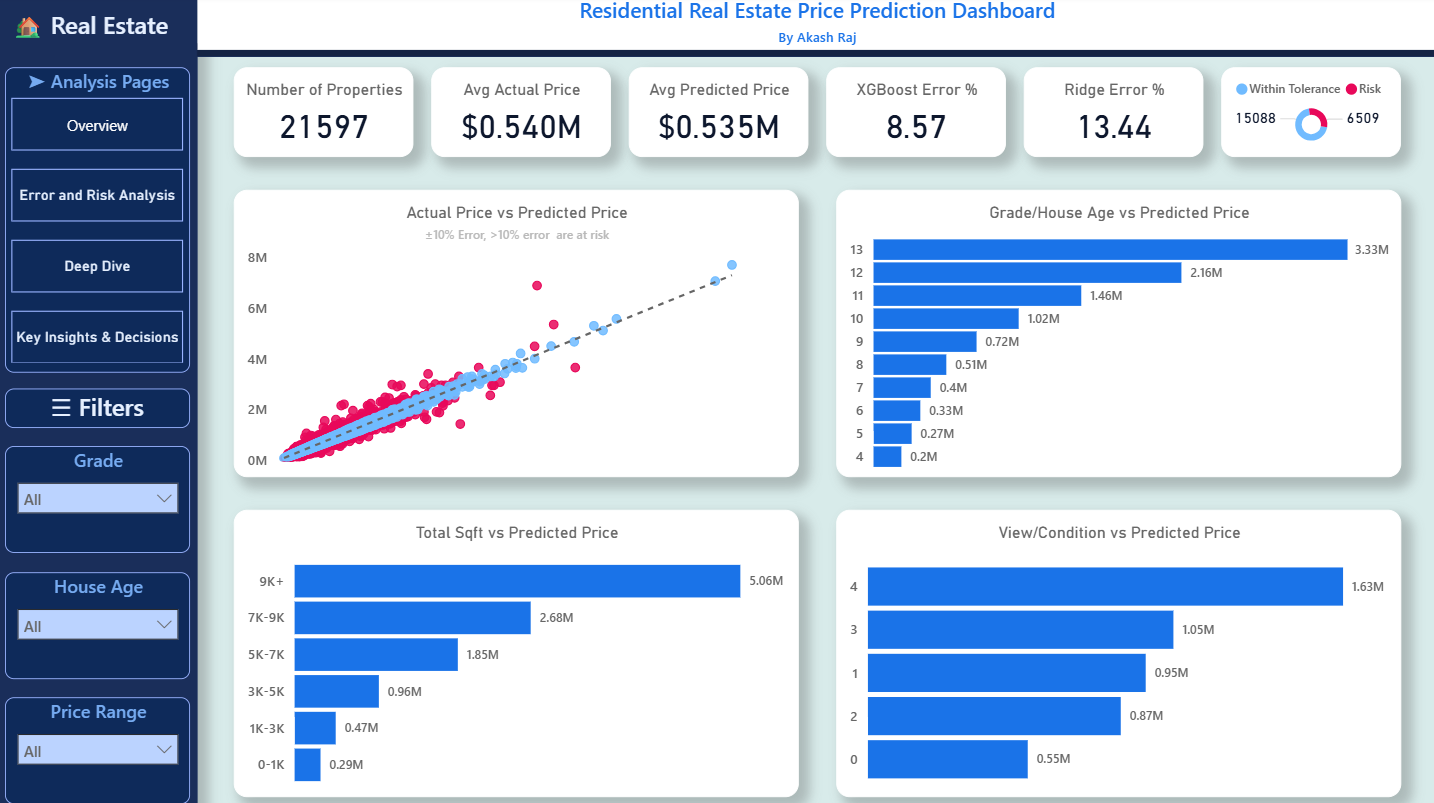

The page's visual inventory and layout, read from the dashboard file:
{"tool":"tableau","page":{"name":"Model Reliability & Pricing Confidence","canvas":[1000,1000],"units":"permille","ordinal":1},"visuals":[{"type":"worksheet","title":"Ex-Back","mark":"Automatic","box":[0,0,1000,1000]},{"type":"text","box":[47.4,27.8,902.3,47.2]},{"type":"dashboard-object","box":[54.1,33.3,109.8,38.9]},{"type":"filter","title":"Actual vs Predicted — XGBoost","param":"[federated.0pb6tqq0hun84y1cwjt1z028dbxy].[none:actual_price:qk]","box":[674.4,175,91,98.6]},{"type":"filter","title":"Actual vs Predicted — XGBoost","param":"[federated.0pb6tqq0hun84y1cwjt1z028dbxy].[none:grade:qk]","box":[766.9,175,91,98.6]},{"type":"filter","title":"Ex-Back","param":"[federated.0pb6tqq0hun84y1cwjt1z028dbxy].[none:house_age:qk]","box":[859.4,175,91,98.6]},{"type":"worksheet","title":"KPI Tiles","mark":"Automatic","box":[49.6,176.4,581.2,98.6]},{"type":"blank","box":[166.9,176.4,2.3,97.2]},{"type":"blank","box":[281.9,176.4,2.3,97.2]},{"type":"blank","box":[397,176.4,2.3,97.2]},{"type":"blank","box":[512,176.4,2.3,97.2]},{"type":"worksheet","title":"Actual vs Predicted — XGBoost","mark":"Automatic","rows":["actual_price"],"cols":["xgb_pred_price"],"box":[43.6,419.4,281.2,481.9]},{"type":"worksheet","title":"Actual vs Predicted — Ridge","mark":"Automatic","rows":["actual_price"],"cols":["ridge_pred_price"],"box":[357.1,419.4,279.7,481.9]},{"type":"worksheet","title":"Total Sqft vs Predicted Price","mark":"Bar","rows":["Calculation_0555552130994176"],"cols":["xgb_pred_price"],"box":[671.4,419.4,280.4,481.9]},{"type":"text","box":[214.3,438.9,85.7,41.7]},{"type":"legend","title":"Total Sqft vs Predicted Price","param":"[federated.0pb6tqq0hun84y1cwjt1z028dbxy].[none:Calculation_0458520059084800:nk]","box":[209,833.3,112.8,58.3]}]}

Visuals, with their boxes on the dashboard's canvas, which has no fixed pixel size, in thousandths of its width and height (x1, y1, x2, y2). These are canvas units, not pixel positions in the 1434x803 screenshot, which may show the page scaled, cropped or inside an application window:
"Ex-Back" worksheet: [0,0,1000,1000]
text: [47,28,950,75]
dashboard-object: [54,33,164,72]
"Actual vs Predicted — XGBoost" filter: [674,175,765,274]
"Actual vs Predicted — XGBoost" filter: [767,175,858,274]
"Ex-Back" filter: [859,175,950,274]
"KPI Tiles" worksheet: [50,176,631,275]
blank: [167,176,169,274]
blank: [282,176,284,274]
blank: [397,176,399,274]
blank: [512,176,514,274]
"Actual vs Predicted — XGBoost" worksheet: [44,419,325,901]
"Actual vs Predicted — Ridge" worksheet: [357,419,637,901]
"Total Sqft vs Predicted Price" worksheet (Bar marks): [671,419,952,901]
text: [214,439,300,481]
"Total Sqft vs Predicted Price" legend: [209,833,322,892]
